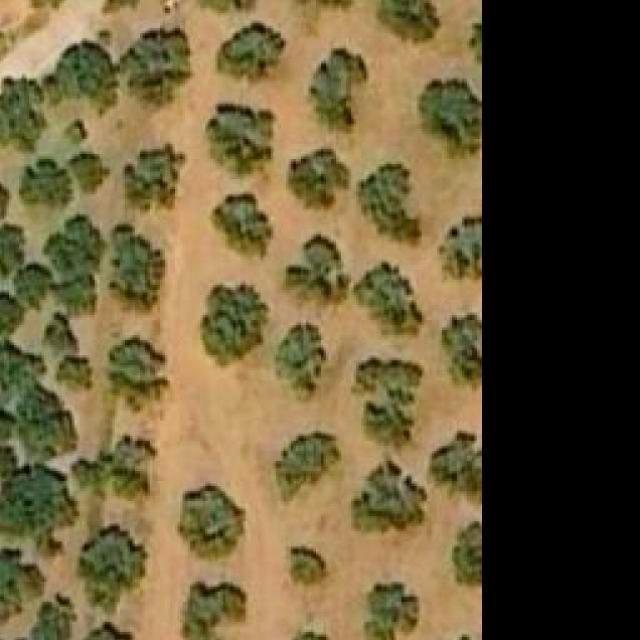Tree: (351, 358, 425, 452), (351, 453, 427, 531), (0, 465, 71, 546), (197, 283, 266, 366), (205, 102, 276, 182), (177, 479, 246, 559), (72, 436, 158, 499), (420, 77, 480, 167), (359, 164, 423, 248), (354, 263, 425, 336), (128, 26, 191, 107), (110, 222, 165, 313), (311, 41, 369, 127), (286, 234, 351, 308), (105, 338, 168, 412), (123, 144, 186, 214), (274, 322, 327, 401), (84, 529, 138, 605), (289, 149, 352, 209), (212, 192, 271, 256), (430, 429, 480, 504), (17, 390, 71, 459), (57, 41, 118, 102), (183, 581, 246, 640), (223, 20, 284, 79), (19, 157, 73, 220), (276, 431, 339, 484), (0, 73, 44, 148), (364, 581, 419, 640), (442, 315, 480, 393), (373, 0, 441, 43), (440, 217, 480, 283), (2, 342, 45, 401), (452, 519, 480, 593), (69, 152, 110, 195), (29, 598, 69, 640), (291, 546, 329, 587), (14, 265, 54, 303), (62, 350, 92, 386), (46, 313, 74, 348), (0, 293, 24, 333), (192, 0, 261, 13), (72, 624, 126, 640), (64, 119, 88, 147)
